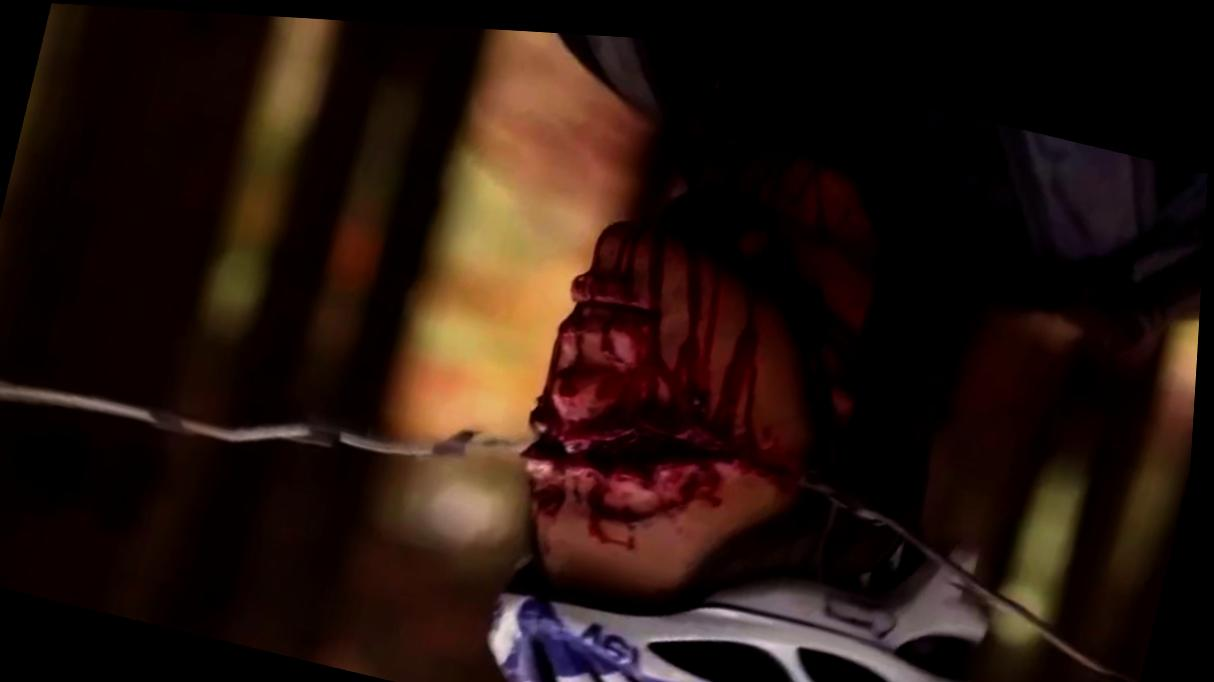Fire: (530, 213, 820, 542), (681, 141, 885, 322)
